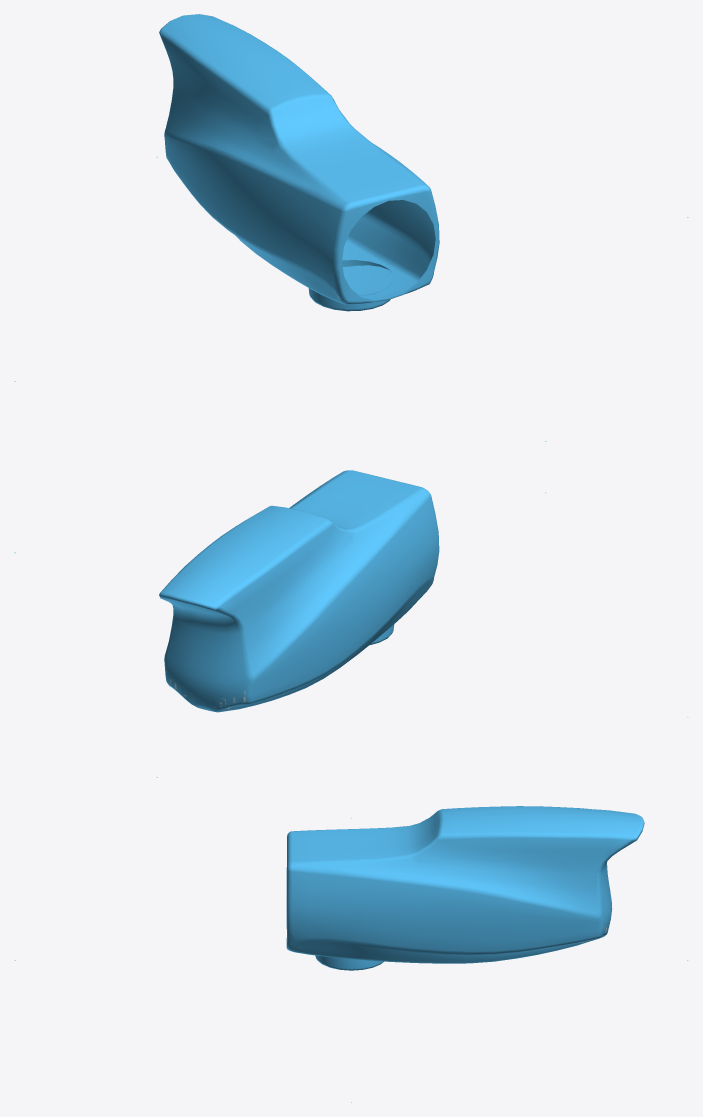
The model's file is windpowergenerator_grid_2001_02.obj.
The picture shows the model from 3 angles, top to bottom: view 1: azimuth 30°, elevation 25°; view 2: azimuth 150°, elevation 25°; view 3: azimuth 270°, elevation 25°; orthographic projection. The views are drawn at different scales.
Parts seen in each view (by area): view 1: polySurface189; view 2: polySurface189; view 3: polySurface189.
Part boxes in pixels (box(x1,y1,x2,y2)): polySurface189: box(14, 14, 688, 441); polySurface189: box(14, 470, 688, 777); polySurface189: box(14, 806, 688, 1102).
Size of the model in its own units: 2838 by 669 by 2838.
1 material, 1 textured.
